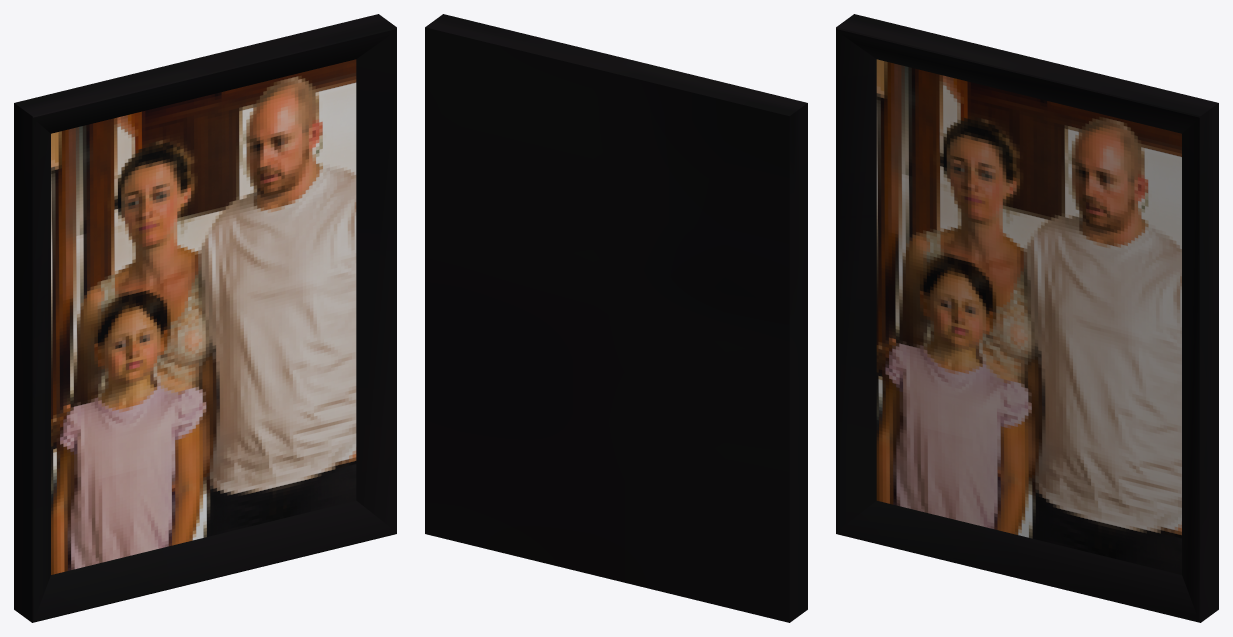
The model's file is frame.fbx.
3 views of the same model, side by side, from view 1: azimuth 30°, elevation 25°; view 2: azimuth 150°, elevation 25°; view 3: azimuth 330°, elevation 25° (orthographic).
Visible parts, largest first — view 1: Cube; view 2: Cube; view 3: Cube.
Boxes of the visible parts, x1,y1,x2,y2 form: Cube: (14, 14, 396, 622); Cube: (425, 14, 807, 622); Cube: (836, 14, 1218, 622).
Bounding box in the file's own units: 151 × 200 × 13.31.
